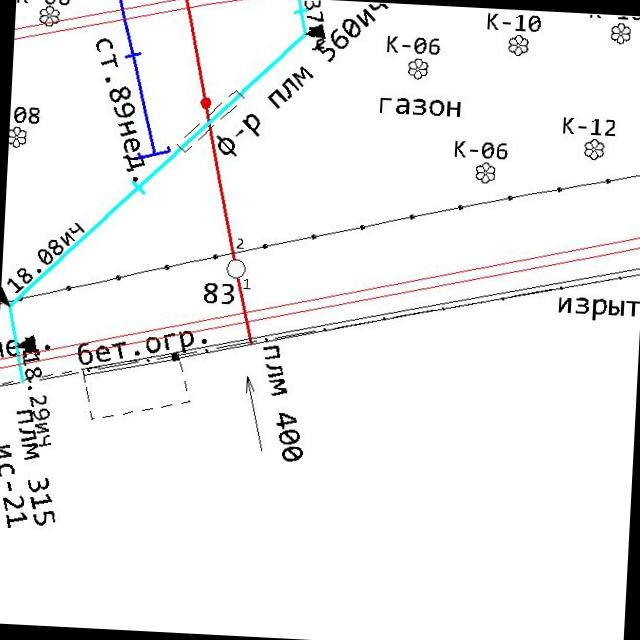bushes: (406, 56, 430, 82), (506, 32, 530, 58), (473, 160, 497, 186), (582, 136, 606, 162), (37, 4, 61, 28), (610, 22, 632, 46), (8, 126, 28, 150)
mark: (302, 22, 328, 42), (16, 333, 39, 354)
well: (224, 257, 248, 281)
